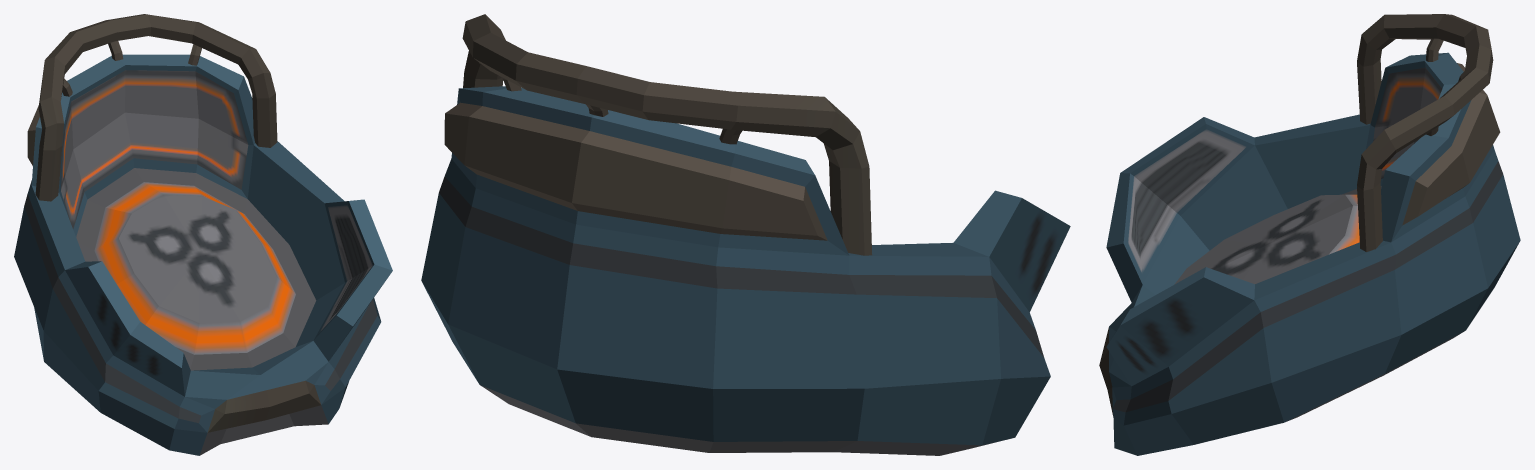
File: SM_Mech_Neck_01_Armor_Collar_01.fbx
The picture shows the model from 3 angles, left to right: view 1: azimuth 30°, elevation 25°; view 2: azimuth 150°, elevation 25°; view 3: azimuth 270°, elevation 25°; orthographic projection. The views are drawn at different scales.
Visible parts, largest first — view 1: SM_Mech_Neck_01_Armor_Collar_01; view 2: SM_Mech_Neck_01_Armor_Collar_01; view 3: SM_Mech_Neck_01_Armor_Collar_01.
Boxes of the visible parts, x1=… form: SM_Mech_Neck_01_Armor_Collar_01: x1=14, y1=14, x2=392, y2=455; SM_Mech_Neck_01_Armor_Collar_01: x1=421, y1=14, x2=1070, y2=455; SM_Mech_Neck_01_Armor_Collar_01: x1=1099, y1=14, x2=1520, y2=455.
Bounding box in the file's own units: 109 × 104 × 108.
